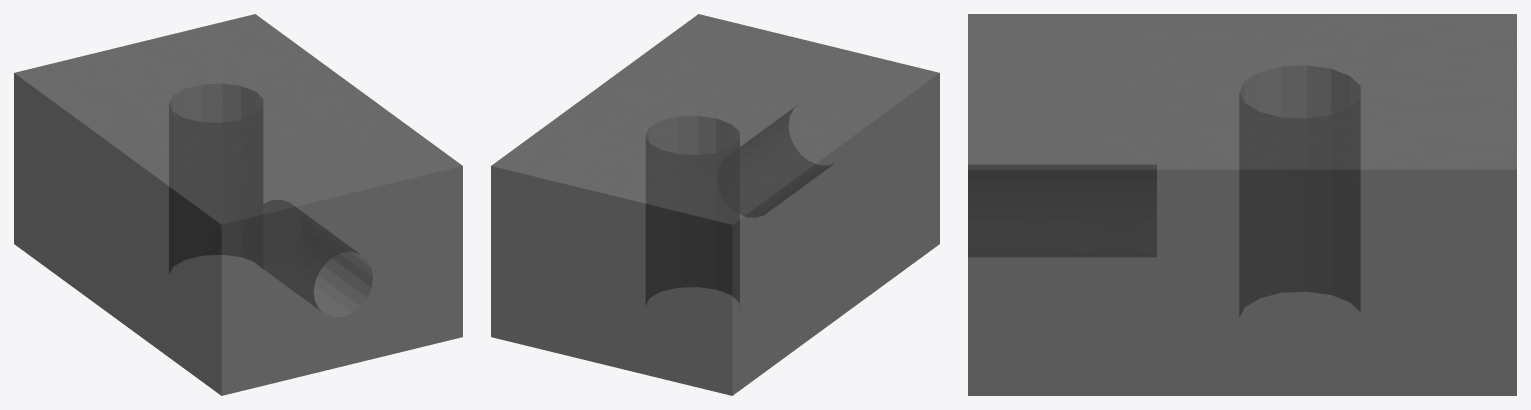
The model's file is WheelInsulator.glb.
3 views of the same model, side by side, from view 1: azimuth 30°, elevation 25°; view 2: azimuth 150°, elevation 25°; view 3: azimuth 270°, elevation 25° (orthographic). The views are drawn at different scales.
Visible parts, largest first — view 1: WheelInsulator.003; view 2: WheelInsulator.003; view 3: WheelInsulator.003.
Boxes of the visible parts, x1,y1,x2,y2 form: WheelInsulator.003: (14, 14, 462, 395); WheelInsulator.003: (491, 14, 939, 395); WheelInsulator.003: (968, 14, 1516, 395).
Size of the model in its own units: 0.4436 by 0.3006 by 0.6608.
1 material, 1 textured.
